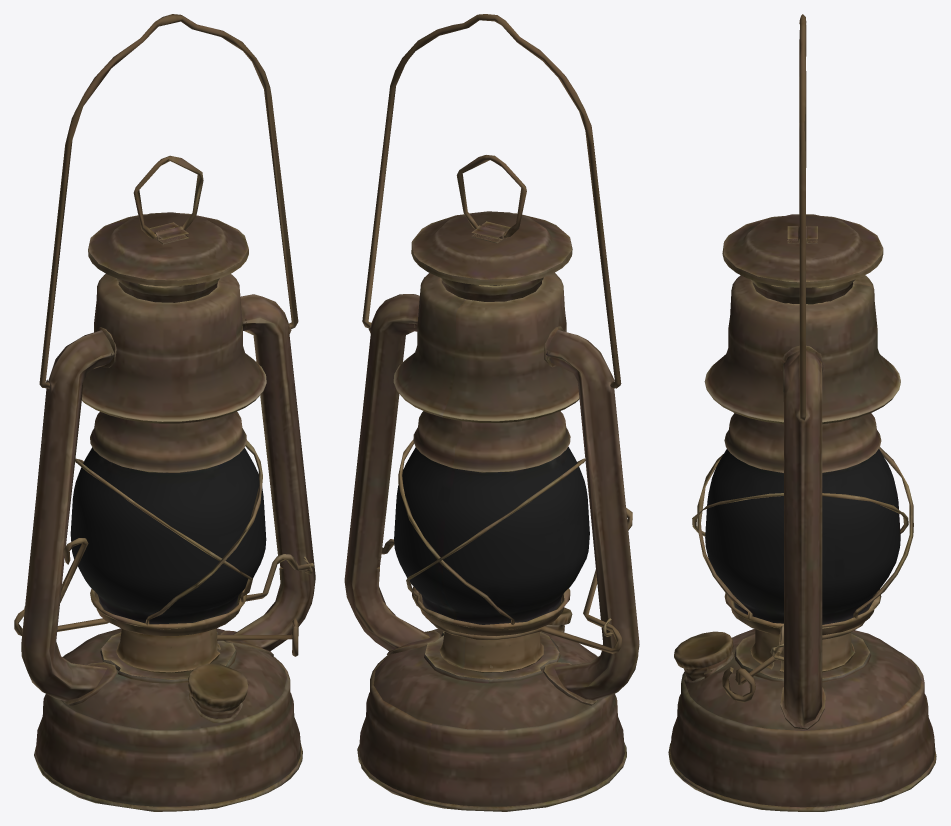
Rendered from lantern_01.glb.
3 views of the same model, side by side, from view 1: azimuth 30°, elevation 25°; view 2: azimuth 150°, elevation 25°; view 3: azimuth 270°, elevation 25° (orthographic).
Parts seen in each view (by area): view 1: Lantern_01, Lantern_01_glass; view 2: Lantern_01, Lantern_01_glass; view 3: Lantern_01, Lantern_01_glass.
Boxes of the visible parts, x1=… form: Lantern_01: x1=14, y1=14, x2=315, y2=811; Lantern_01_glass: x1=70, y1=447, x2=266, y2=624; Lantern_01: x1=344, y1=14, x2=639, y2=811; Lantern_01_glass: x1=394, y1=446, x2=589, y2=624; Lantern_01: x1=668, y1=14, x2=936, y2=811; Lantern_01_glass: x1=705, y1=449, x2=900, y2=624.
Size of the model in its own units: 0.1219 by 0.294 by 0.0967.
2 materials, 2 textured.
